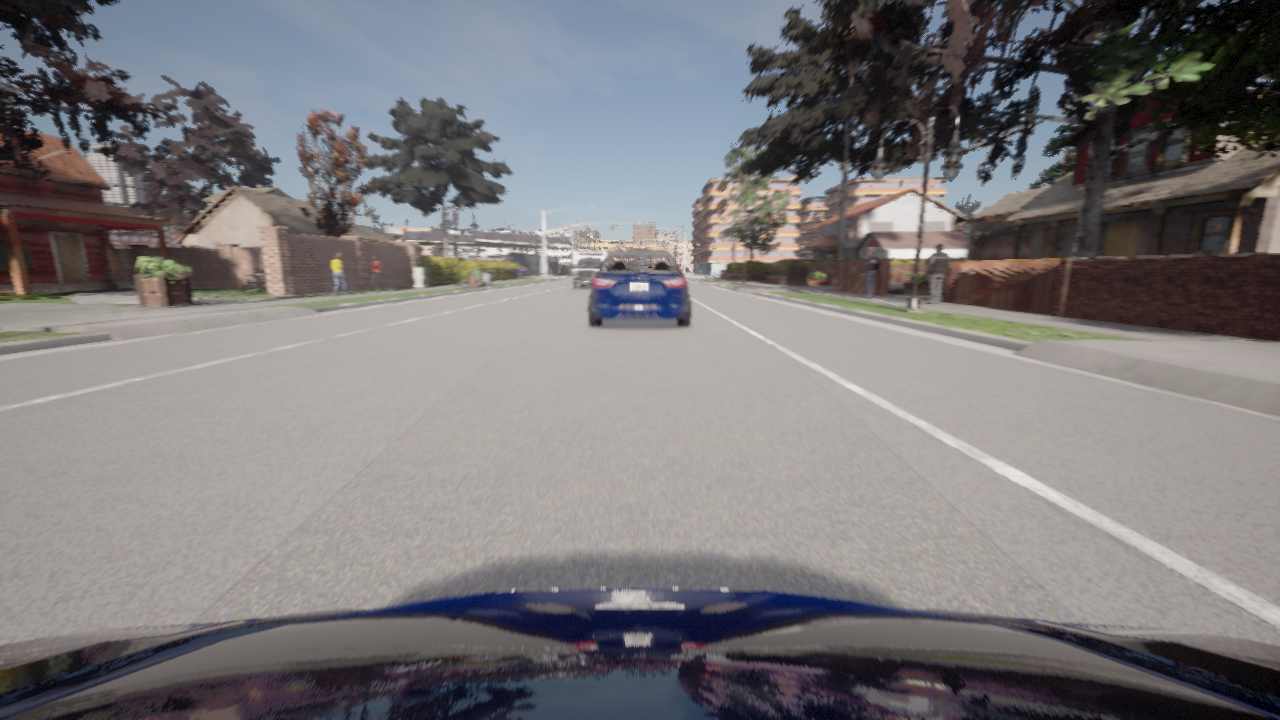cyclist: (0, 588, 1279, 719), (589, 250, 690, 327), (568, 252, 608, 289), (518, 267, 527, 275), (526, 271, 529, 275)
pedestrian: (926, 245, 949, 304), (862, 249, 880, 298), (331, 253, 349, 296), (371, 255, 383, 291)
